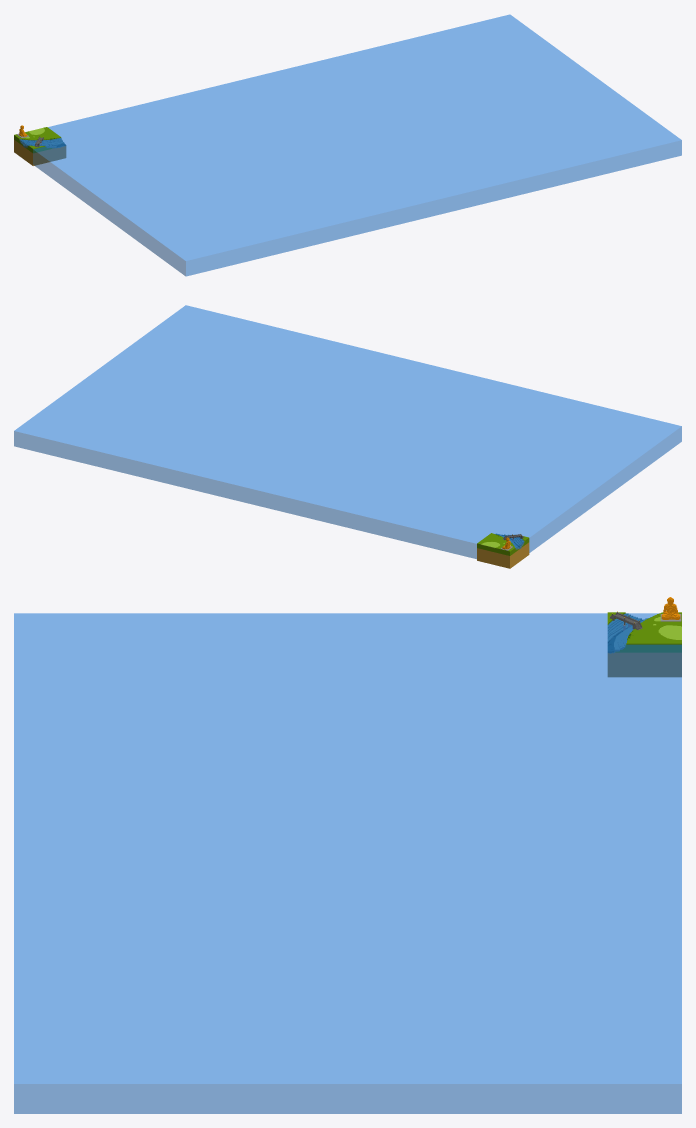
3 renders of one model, top to bottom at view 1: azimuth 30°, elevation 25°; view 2: azimuth 150°, elevation 25°; view 3: azimuth 270°, elevation 25°, orthographic. The views are drawn at different scales.
Visible parts, largest first — view 1: water.003, 1H.004; view 2: water.003, 1H.004; view 3: water.003, 1H.004.
Boxes of the visible parts, x1,y1,x2,y2 form: water.003: [20, 14, 681, 276]; 1H.004: [14, 125, 66, 165]; water.003: [14, 305, 681, 558]; 1H.004: [477, 533, 529, 568]; water.003: [14, 613, 681, 1113]; 1H.004: [607, 597, 681, 677].
Bounding box in the file's own units: 192 × 10.2 × 115.
Materials: 2 (1 with a texture image).
